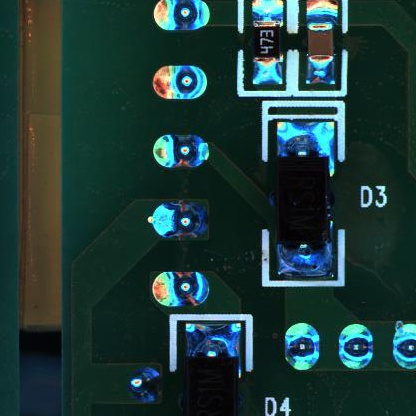spot: (146, 200, 212, 241), (149, 270, 211, 307), (152, 133, 211, 169), (152, 1, 213, 32), (283, 321, 321, 370), (153, 65, 208, 98), (338, 323, 374, 371), (391, 319, 416, 370)
